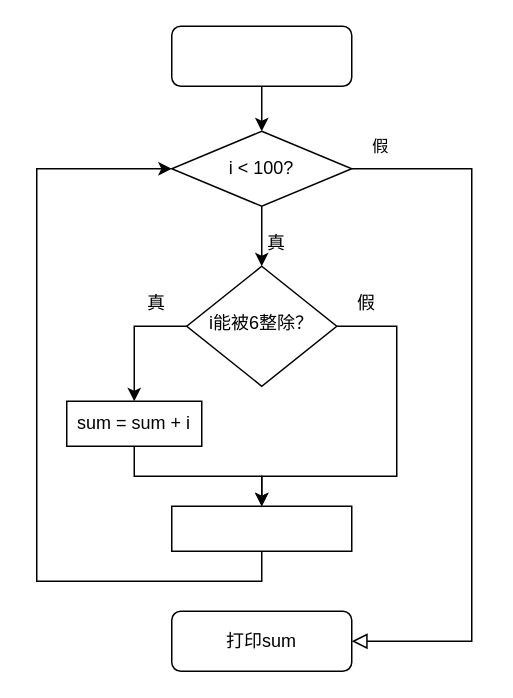
This 513x698 diagram has some shape labels left out. Each missing label, with the box of its shape:
i = i + 1: (170, 505, 352, 551)
Sum = 0 i = 1: (170, 25, 352, 86)
